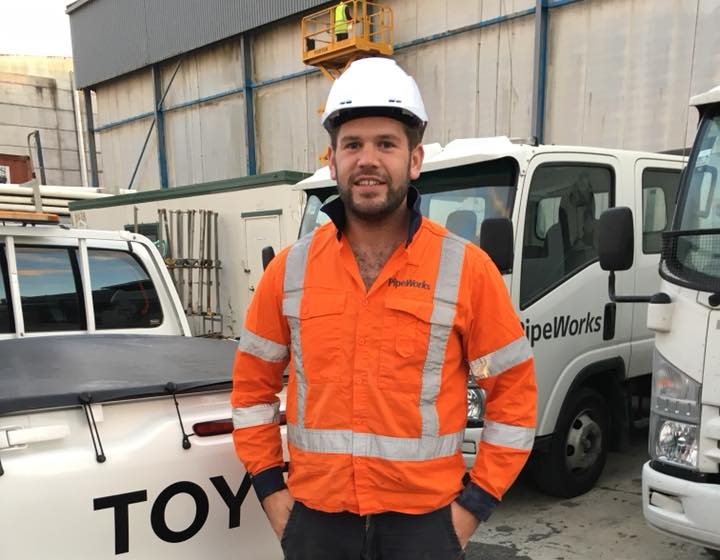hard hat: (323, 55, 429, 130)
high-vis: (233, 220, 539, 509)
